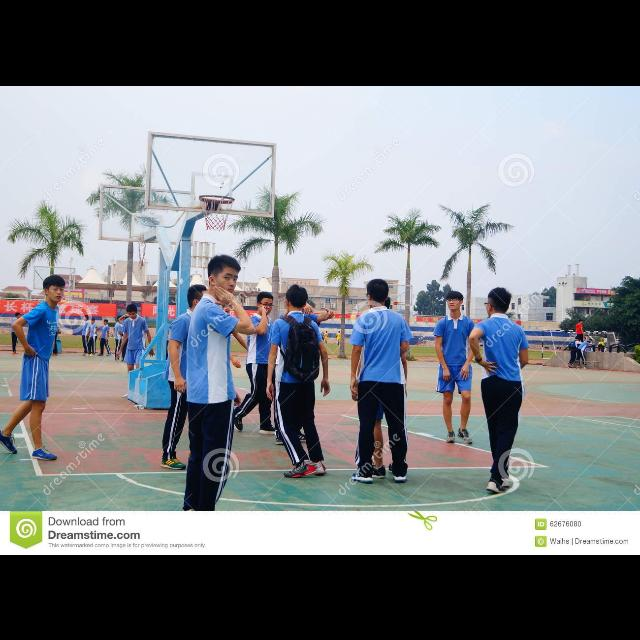head: (208, 255, 240, 295), (485, 288, 511, 316), (187, 284, 211, 312), (366, 278, 390, 304), (43, 274, 65, 302), (286, 286, 308, 310), (256, 291, 274, 315), (372, 296, 392, 316), (446, 291, 464, 311), (288, 292, 304, 308), (125, 304, 138, 320), (125, 314, 131, 322), (16, 312, 22, 318), (83, 314, 89, 320), (90, 318, 96, 324), (118, 316, 124, 322), (578, 318, 584, 324), (587, 340, 591, 346), (104, 320, 108, 324), (576, 336, 580, 340), (589, 339, 593, 343), (323, 332, 325, 334), (326, 331, 328, 333), (339, 331, 341, 333)
person: (182, 252, 260, 536), (264, 282, 332, 480), (467, 285, 531, 495), (348, 278, 410, 484), (0, 273, 66, 461), (160, 282, 224, 470), (351, 293, 407, 481), (272, 291, 336, 447), (230, 289, 286, 436), (432, 288, 480, 446), (116, 303, 156, 402), (117, 313, 139, 363), (567, 335, 587, 369), (113, 314, 127, 362), (85, 317, 101, 357), (96, 319, 112, 357), (575, 340, 595, 370), (10, 312, 22, 354), (80, 314, 92, 356), (574, 318, 586, 352), (584, 337, 594, 363), (336, 330, 342, 346), (320, 331, 326, 345), (323, 330, 329, 344)
